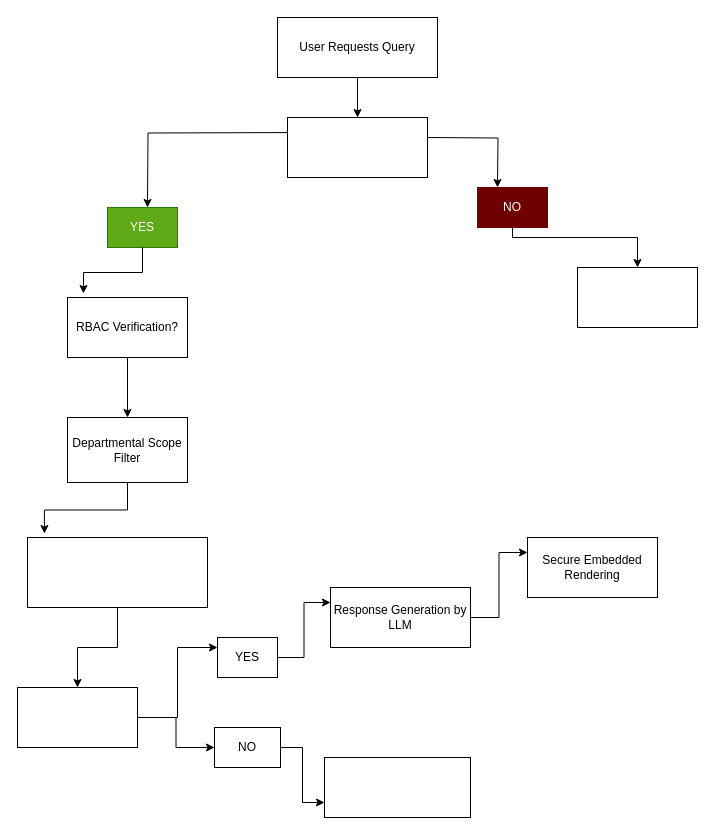
This 715x835 diagram has some shape labels left out. The centre of each missing label's shape, as x and y in pixels:
(LGPD) NLP Pipeline: Sensitive Data Anonymization (NER): the point at 117,572
Authentication & MFA Module?: the point at 357,147
Blocks Response (Prevents Hallucination): the point at 397,787
IA Barrier: Cosine Similarity >= 85%?: the point at 77,717
Session Block & Audit Log: the point at 637,297
